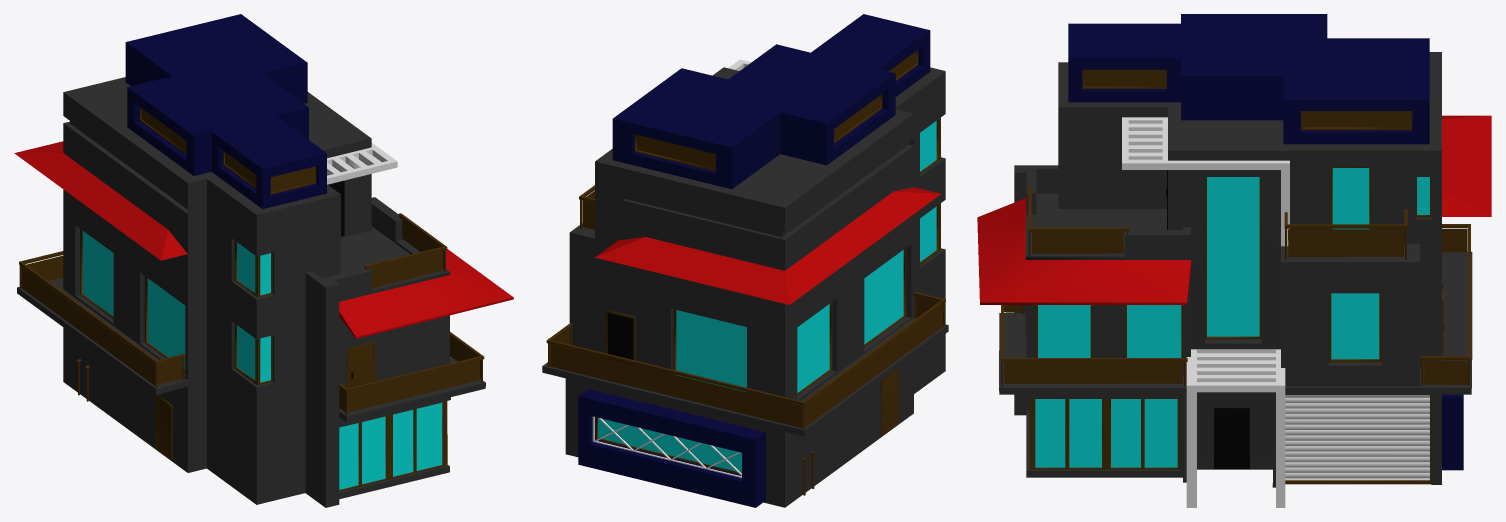
3 renders of one model, left to right at view 1: azimuth 30°, elevation 25°; view 2: azimuth 150°, elevation 25°; view 3: azimuth 270°, elevation 25°, orthographic. The views are drawn at different scales.
Visible parts, largest first — view 1: Box002, Box003, Box011, Plane001, stena, Box010, Group001, Box003.001, Pyramid001, Box004; view 2: Box002, Box011, stena, Box010, Plane001, Box012, Pyramid001, Group001, Box014, Box003; view 3: Box002, Plane001, Box011, Box003, stena, Box010, Group001, Box009, Box003.001, Box005, Pyramid001, Box004 (+1 smaller).
Part boxes in pixels (x1,y1,x2,y2): Box002: (17,77,371,504); Box003: (305,197,485,507); Box011: (127,59,326,208); Plane001: (82,231,442,489); stena: (21,107,484,491); Box010: (125,14,307,103); Group001: (19,181,482,412); Box003.001: (339,249,513,338); Pyramid001: (14,141,187,260); Box004: (327,143,397,184); Box002: (565,67,948,507); Box011: (708,14,930,165); stena: (550,50,943,474); Box010: (612,68,800,189); Plane001: (598,121,936,472); Box012: (578,389,765,507); Pyramid001: (595,187,940,304); Group001: (546,191,945,495); Box014: (592,416,741,477); Box003: (542,362,621,388); Box002: (1058,52,1472,487); Plane001: (1035,168,1429,467); Box011: (1068,14,1327,120); Box003: (999,165,1471,482); stena: (1001,69,1467,484); Box010: (1283,38,1429,144); Group001: (1001,170,1470,468); Box009: (1285,395,1429,480); Box003.001: (977,198,1190,304); Box005: (1186,349,1285,507); Pyramid001: (1442,115,1491,216); Box004: (1122,117,1289,246).
Size of the model in its own units: 1279 by 1430 by 1824.
